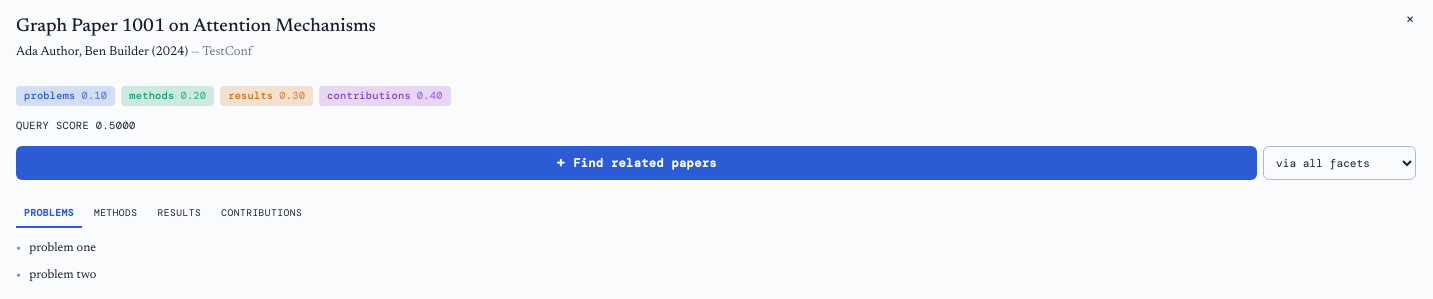
Test: facet tabs › switches items when another tab is picked
Click the tab "methods": [116, 214] box x1=86 y1=200 x2=146 y2=228
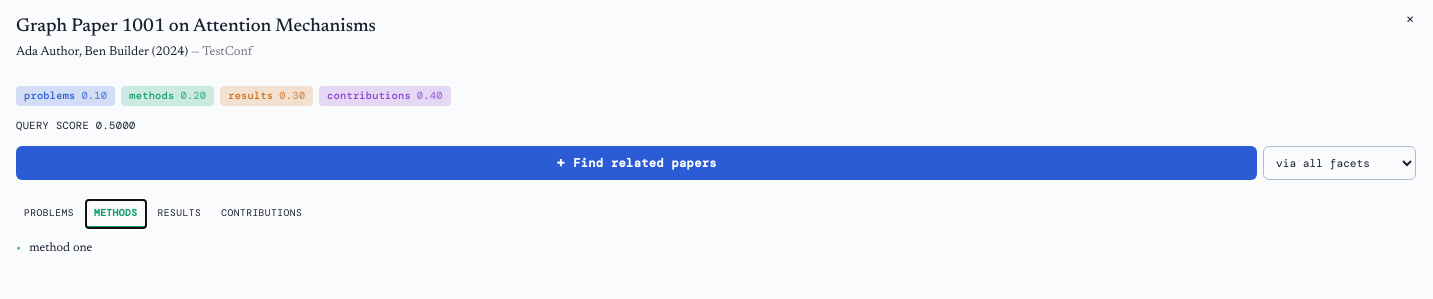
Expected: the text "method one" is shown, x1=29 y1=239 x2=92 y2=258
Expected: the text "problem one" is gone
